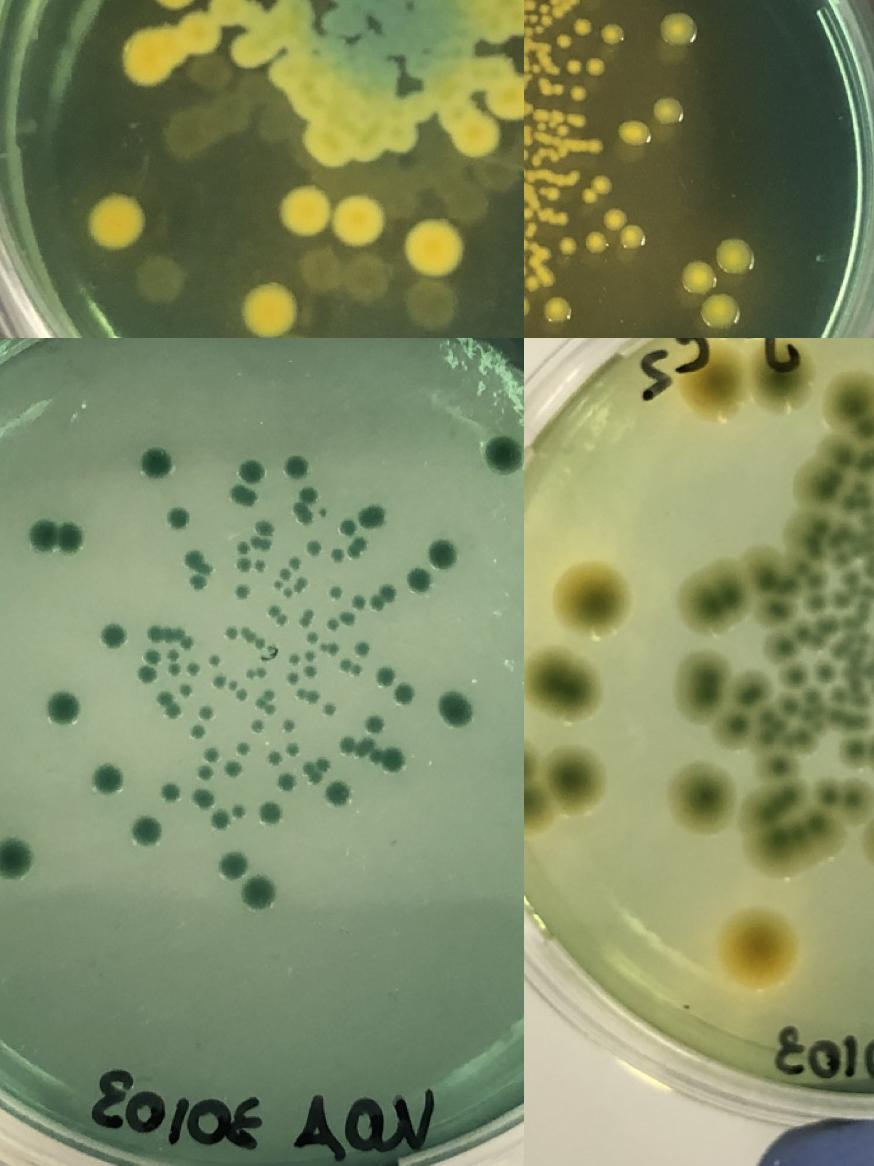pddamselae: (340, 737, 407, 772), (29, 518, 82, 550), (229, 458, 264, 504), (270, 556, 302, 598), (241, 874, 277, 911), (90, 761, 126, 798), (128, 813, 164, 849), (438, 692, 474, 728), (45, 692, 81, 728), (426, 536, 462, 572), (236, 518, 272, 554), (139, 444, 175, 480), (488, 436, 524, 472), (148, 624, 196, 650), (183, 550, 212, 590), (224, 624, 268, 650), (0, 842, 31, 878), (212, 674, 249, 701), (292, 487, 318, 525), (301, 758, 330, 785), (220, 852, 246, 879), (257, 801, 283, 827), (325, 781, 351, 807), (100, 622, 126, 648), (370, 585, 396, 611), (407, 568, 433, 594), (165, 506, 191, 532), (361, 503, 387, 529), (158, 692, 182, 720), (284, 455, 310, 480), (326, 610, 355, 632), (255, 688, 278, 714), (236, 556, 267, 572), (348, 536, 368, 560), (296, 688, 322, 706), (165, 649, 182, 676), (340, 657, 362, 677), (268, 604, 288, 626), (210, 810, 230, 830), (193, 788, 213, 808), (162, 782, 182, 802), (339, 518, 359, 538), (298, 608, 316, 628), (243, 666, 268, 680), (204, 746, 220, 763), (190, 723, 206, 740), (366, 716, 382, 733), (322, 701, 338, 718), (139, 665, 155, 682), (234, 583, 250, 600), (198, 764, 214, 780), (198, 704, 214, 720), (378, 668, 394, 684), (306, 542, 322, 558), (280, 775, 296, 790), (227, 761, 242, 776), (144, 650, 160, 664), (354, 642, 370, 656), (352, 594, 366, 610), (398, 687, 412, 702), (326, 641, 340, 656), (268, 752, 282, 766), (236, 742, 250, 756), (285, 742, 299, 756), (252, 720, 266, 734), (285, 672, 299, 686), (187, 662, 201, 676), (206, 653, 220, 667), (287, 653, 301, 667), (304, 649, 318, 663), (306, 631, 320, 645), (330, 550, 344, 564), (282, 720, 294, 734), (180, 684, 192, 698), (304, 666, 316, 680), (330, 585, 342, 599), (295, 577, 309, 589)
valgino: (121, 0, 268, 86), (295, 90, 433, 164), (280, 184, 388, 249), (722, 912, 796, 986), (535, 744, 609, 818), (554, 563, 628, 637), (664, 762, 739, 835), (750, 339, 812, 409), (682, 346, 744, 414), (442, 100, 500, 158), (89, 191, 145, 250), (243, 280, 299, 338), (408, 218, 464, 276), (483, 51, 524, 121), (482, 0, 524, 43), (840, 780, 874, 825), (268, 58, 300, 89), (331, 7, 363, 36), (277, 0, 310, 28), (759, 752, 797, 776), (817, 780, 842, 807)
vharveyi: (677, 260, 740, 334), (602, 208, 646, 248), (714, 237, 756, 277), (658, 12, 696, 50), (616, 118, 654, 147), (652, 94, 686, 126), (540, 295, 574, 326), (564, 53, 606, 77), (598, 20, 626, 46), (529, 2, 554, 28), (583, 231, 609, 255), (572, 16, 594, 38), (593, 173, 614, 195), (558, 236, 578, 256), (555, 31, 575, 49), (570, 84, 588, 102), (524, 200, 534, 227), (524, 294, 533, 317), (546, 188, 560, 202), (524, 252, 528, 280), (524, 147, 530, 161)
